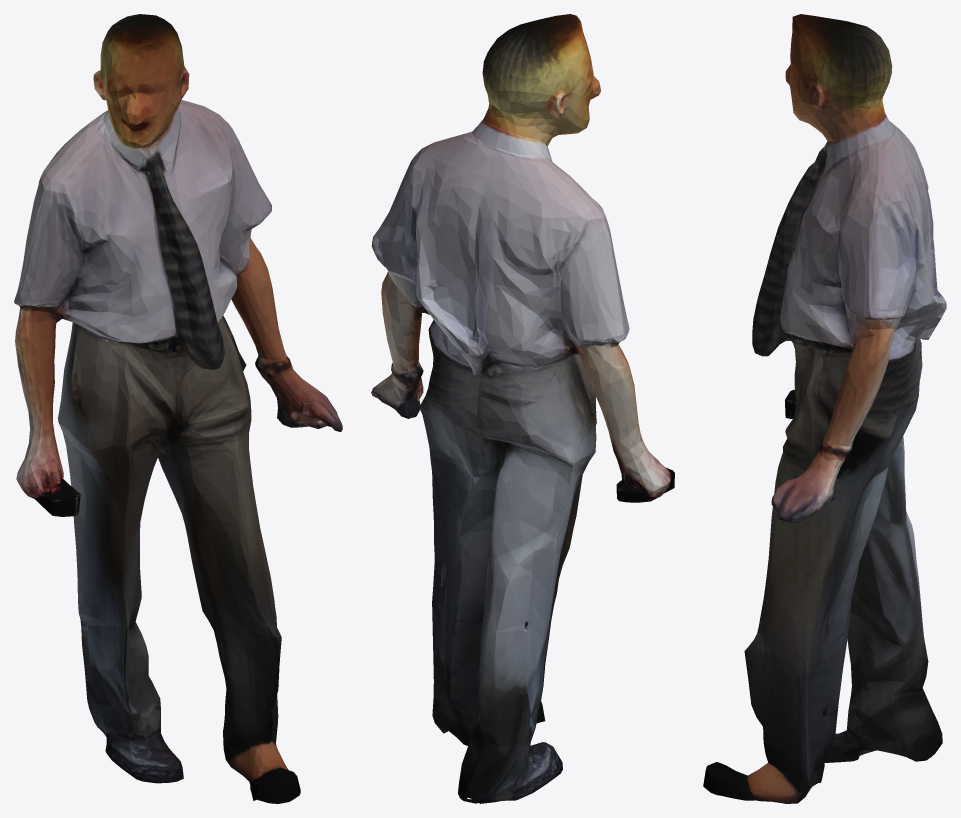
File: teacher.glb
3 renders of one model, left to right at view 1: azimuth 30°, elevation 25°; view 2: azimuth 150°, elevation 25°; view 3: azimuth 270°, elevation 25°, orthographic. The views are drawn at different scales.
Visible parts, largest first — view 1: world; view 2: world; view 3: world.
Part boxes in pixels (left/top/right/bottom): world: left=14, top=14, right=342, bottom=803; world: left=371, top=14, right=674, bottom=803; world: left=703, top=14, right=946, bottom=803.
Size of the model in its own units: 0.4245 by 1 by 0.3034.
1 material, 1 textured.
